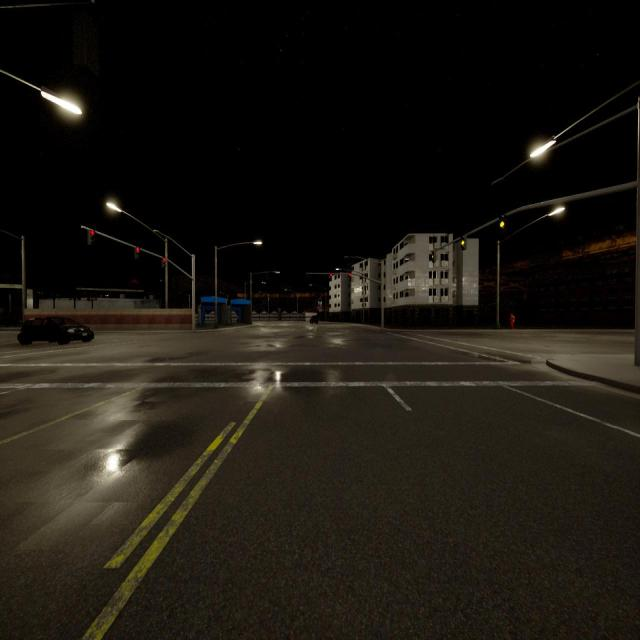Pedestrian: (510, 313, 514, 329)
Vehicle: (18, 316, 94, 344), (310, 316, 318, 324)
traffic_light: (88, 230, 93, 244), (461, 237, 466, 250), (500, 216, 504, 228), (432, 251, 436, 262), (136, 248, 140, 259), (162, 258, 166, 266), (349, 273, 352, 277), (330, 273, 332, 276)
